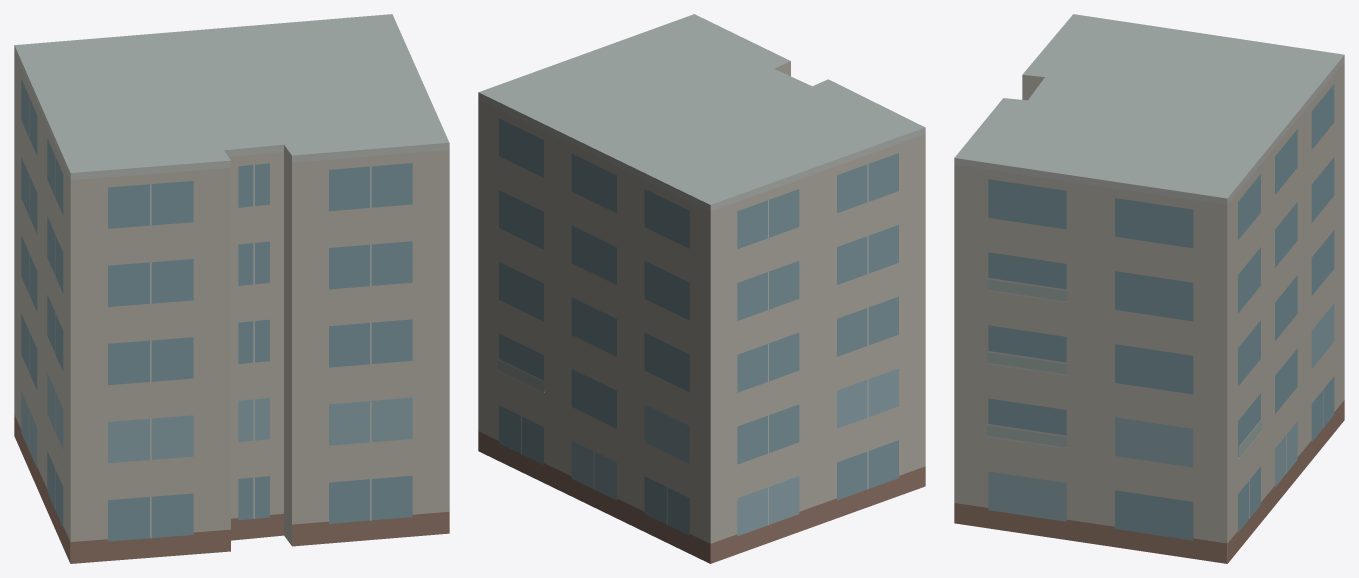
File: survey-upis-32710385.glb
3 views of the same model, side by side, from view 1: azimuth 30°, elevation 25°; view 2: azimuth 150°, elevation 25°; view 3: azimuth 270°, elevation 25° (orthographic). The views are drawn at different scales.
Visible parts, largest first — view 1: survey-upis-32710385.tmp; view 2: survey-upis-32710385.tmp; view 3: survey-upis-32710385.tmp.
Boxes of the visible parts, x1,y1,x2,y2 form: survey-upis-32710385.tmp: (14,14,449,563); survey-upis-32710385.tmp: (478,14,925,563); survey-upis-32710385.tmp: (954,14,1344,563).
Size of the model in its own units: 14.47 by 13.35 by 12.93.
